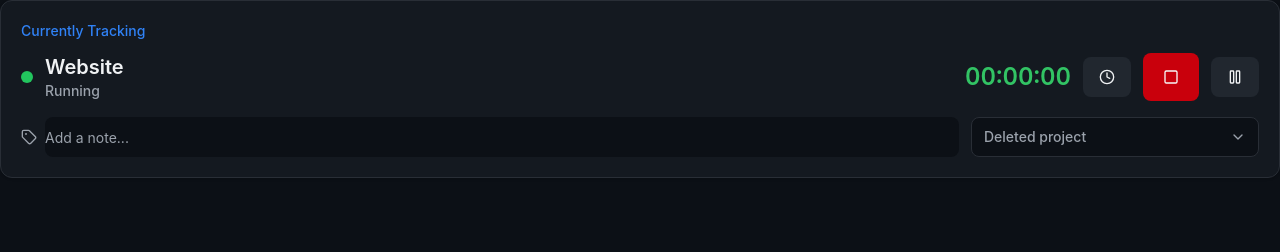
Test: CurrentlyTrackingCard – note behaviour › supports keyboard navigation and closes suggestions on Escape
The image size is (1280, 252).
Step 1. Type "dai" into the dropdown labelled "Add a note" → [502, 137], box [45, 117, 959, 157]
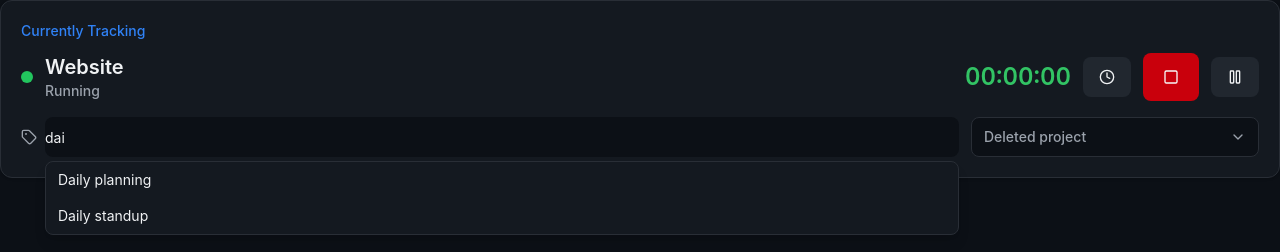
Expected: the dropdown named "Add a note" is expanded
Step 2. Press ArrowDown in the dropdown named "Add a note", box [45, 117, 959, 157]
Step 3. Press Escape in the dropdown named "Add a note", box [45, 117, 959, 157]
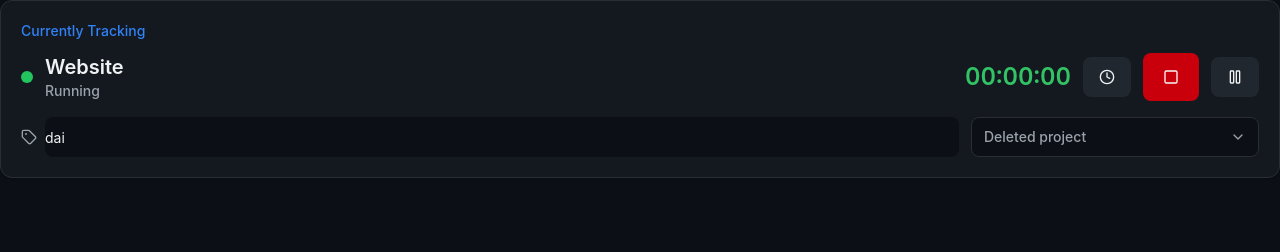
Expected: the list is gone
Step 4. Replace the text in the dropdown named "Add a note" with "dail" → [502, 137], box [45, 117, 959, 157]
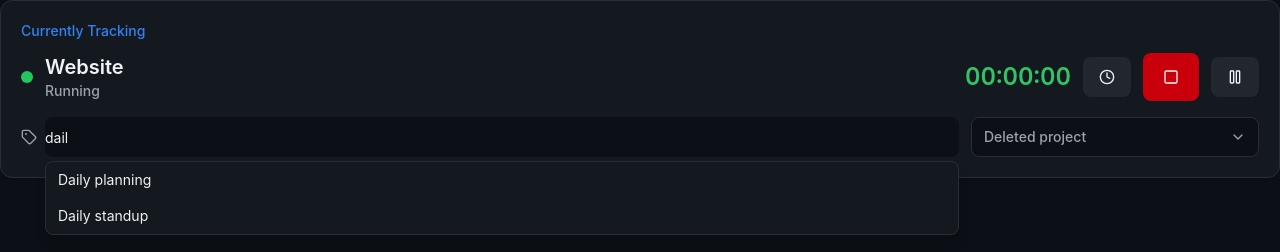
Expected: the list is shown, [45, 161, 959, 235]
